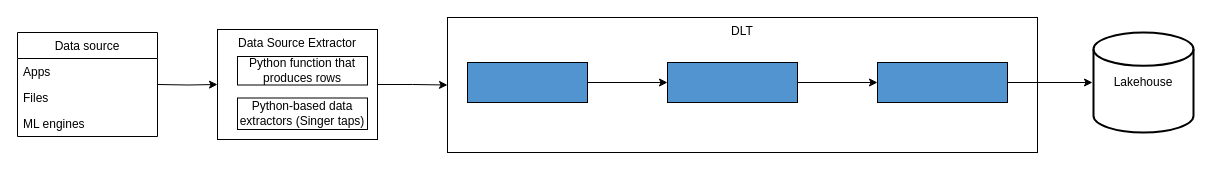
This 1212x170 diagram has some shape labels left out. Each missing label, with the centre of its shape:
Extract (un)structured data: point (527, 82)
Load deploy schema + data: point (942, 82)
Normalize make relational schema: point (732, 82)
